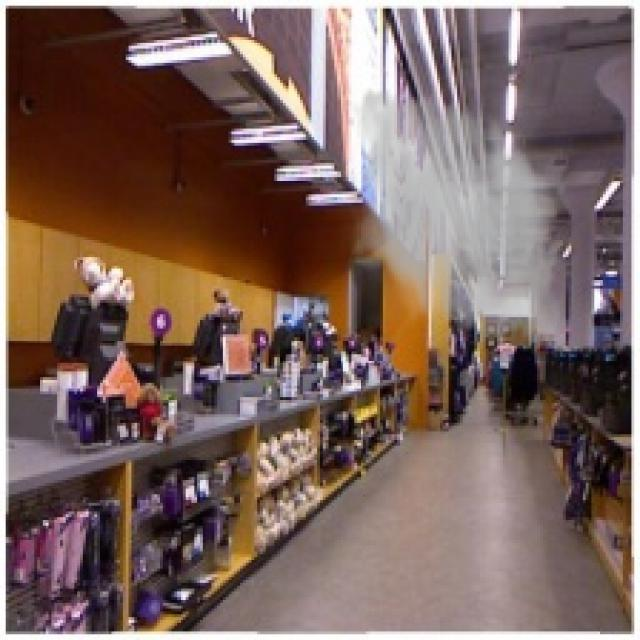smoke: (334, 77, 580, 357)
